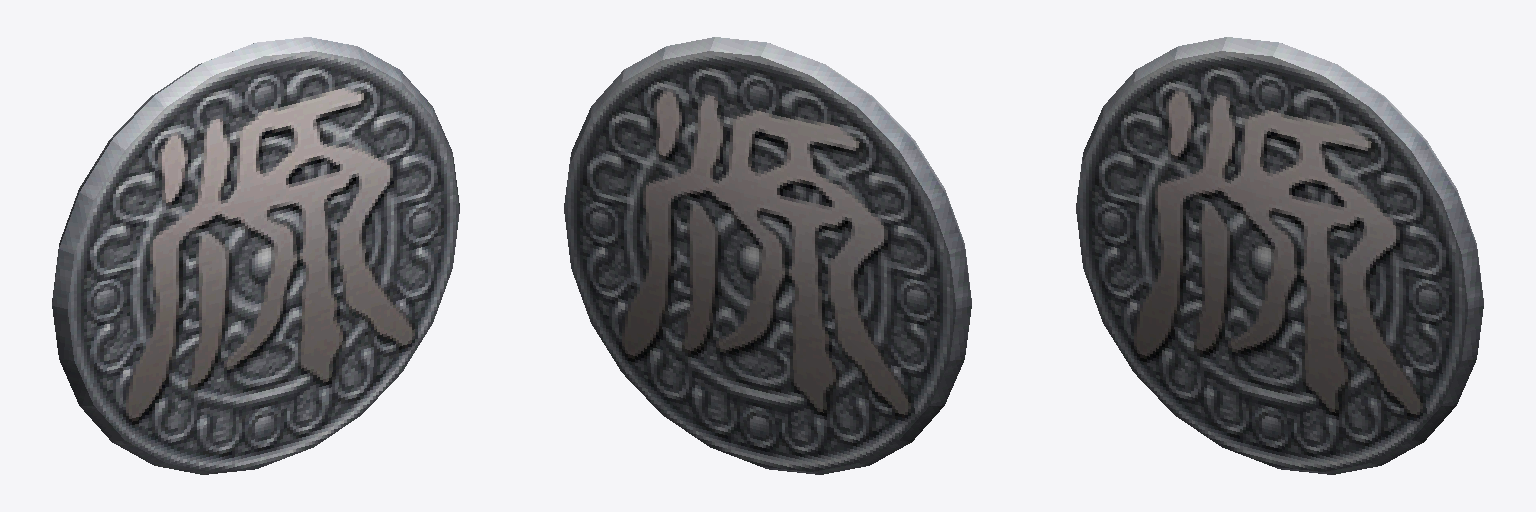
The picture shows the model from 3 angles: view 1: azimuth 30°, elevation 25°; view 2: azimuth 150°, elevation 25°; view 3: azimuth 330°, elevation 25°; orthographic projection.
Bounding box in the file's own units: 4.64 × 4.64 × 0.4863.
1 materials, 1 textured.